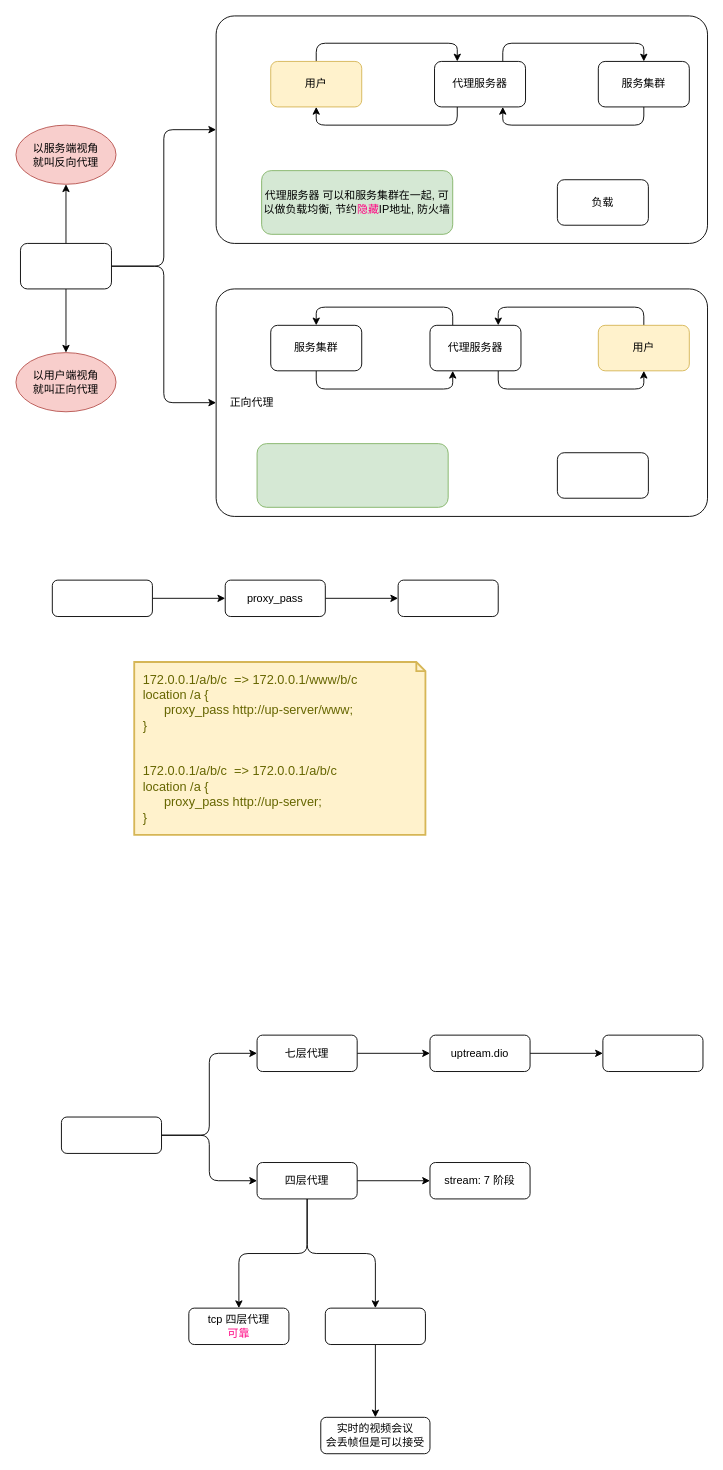
The diagram is 723 pixels wide and 1470 high, and some of its shapes have lost their labels. Each missing label, with the box of its shape:
location: (51, 579, 152, 617)
nginx 反向代理: (61, 1116, 162, 1153)
udp 四层代理: (324, 1307, 425, 1345)
VPN: (556, 452, 648, 498)
以http为例: 11 阶段: (602, 1034, 703, 1072)
反向代理: (215, 15, 708, 243)
后面的路径会替换location 中的值: (397, 579, 498, 617)
视角不同: (20, 243, 111, 289)
访问本地无法访问的资源, 缓存, 加速访问, 隐藏访问者行踪: (256, 443, 448, 507)
